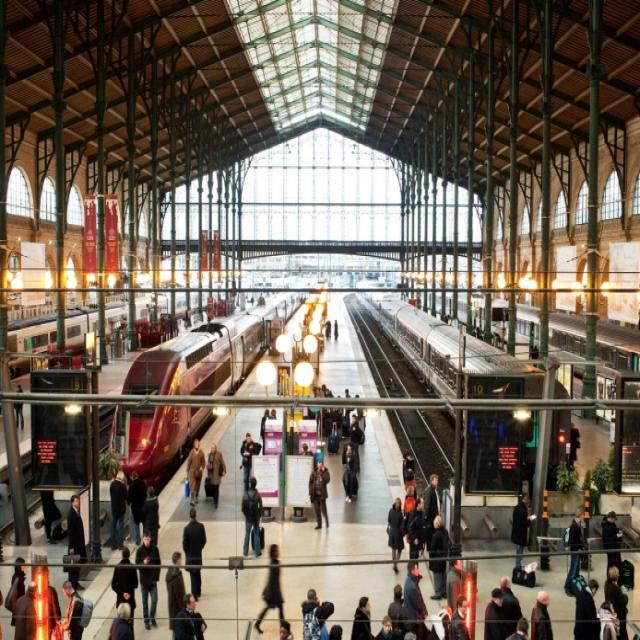body: (0, 272, 639, 448), (468, 407, 535, 488), (253, 543, 286, 635), (133, 528, 161, 633), (32, 442, 58, 543), (180, 506, 207, 602), (110, 545, 140, 625), (30, 563, 61, 640), (427, 513, 453, 601), (562, 507, 586, 598), (240, 475, 266, 559), (163, 549, 187, 639), (402, 559, 429, 639), (66, 494, 87, 592), (603, 565, 630, 640), (509, 493, 532, 581), (61, 579, 94, 640), (600, 510, 626, 587), (384, 497, 408, 576), (406, 494, 428, 580), (572, 577, 601, 639), (307, 456, 331, 530), (300, 587, 334, 639), (125, 469, 148, 545), (498, 575, 525, 639), (108, 469, 128, 551), (183, 437, 206, 508), (326, 623, 428, 639), (423, 472, 442, 554), (205, 440, 226, 510), (483, 587, 510, 640), (140, 485, 162, 548), (530, 588, 555, 640), (181, 592, 208, 640), (349, 594, 377, 639), (562, 420, 582, 481), (445, 556, 464, 617), (594, 598, 620, 639), (449, 593, 470, 639), (107, 602, 133, 639), (343, 442, 358, 504), (240, 432, 254, 494), (387, 584, 405, 632), (430, 605, 453, 640), (372, 614, 401, 639), (504, 615, 532, 640), (259, 408, 272, 457), (12, 383, 25, 431), (401, 447, 417, 485), (348, 412, 360, 456), (403, 485, 418, 517), (278, 619, 295, 640), (298, 439, 318, 456), (0, 590, 4, 638), (268, 409, 278, 421)
